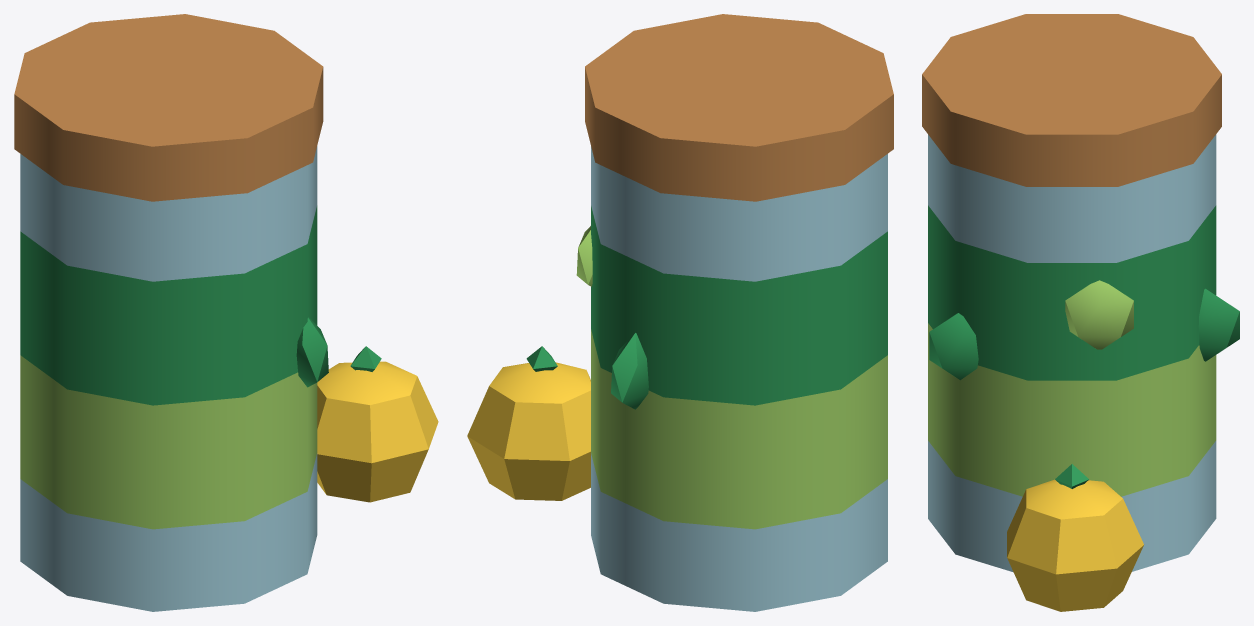
Rendered from prop_green_tea_jar.glb.
3 views of the same model, side by side, from view 1: azimuth 30°, elevation 25°; view 2: azimuth 150°, elevation 25°; view 3: azimuth 270°, elevation 25° (orthographic). The views are drawn at different scales.
Visible parts, largest first — view 1: prop_green_tea_jar; view 2: prop_green_tea_jar; view 3: prop_green_tea_jar.
Part boxes in pixels (bbox=[...]): prop_green_tea_jar: bbox=[14, 14, 438, 611]; prop_green_tea_jar: bbox=[467, 14, 893, 611]; prop_green_tea_jar: bbox=[922, 14, 1239, 611].
Bounding box in the file's own units: 0.1488 × 0.17 × 0.1102.
1 material, 1 textured.
